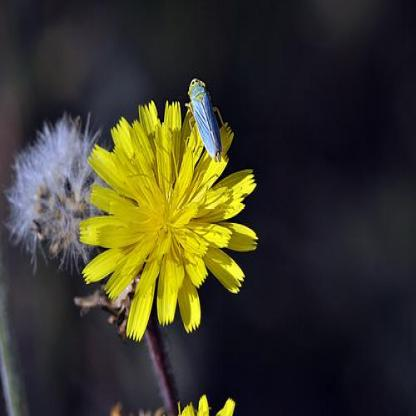Green-Leafhopper: (178, 75, 230, 163)
